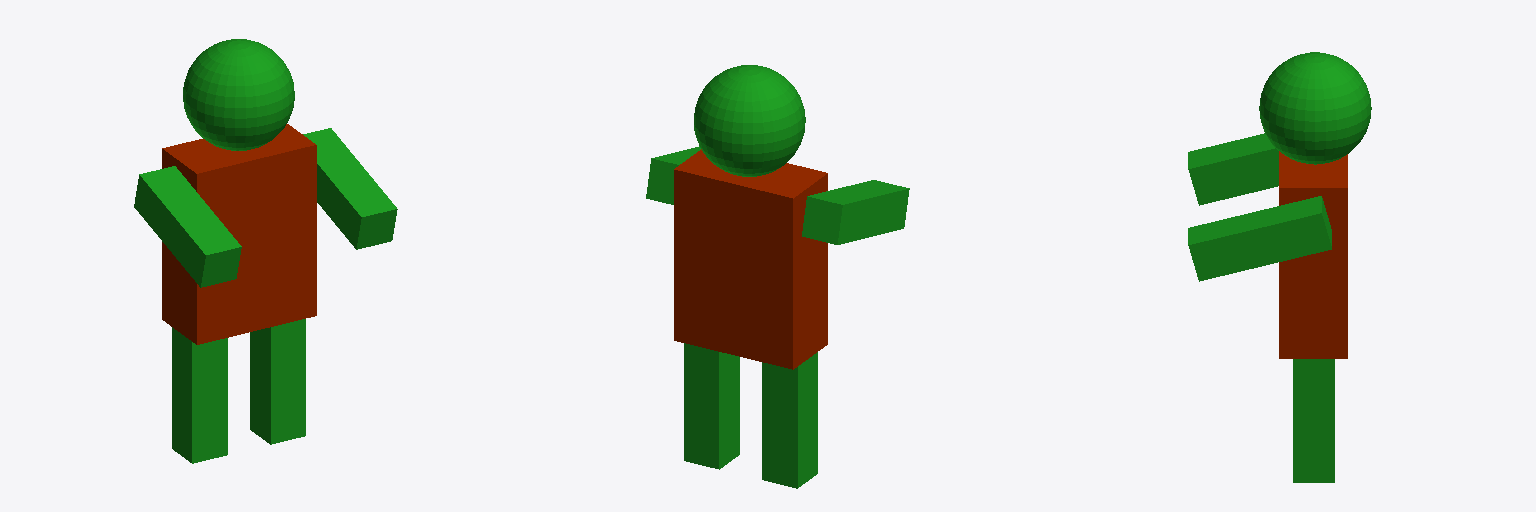
Rendered from enemigo2.obj.
The picture shows the model from 3 angles: view 1: azimuth 30°, elevation 25°; view 2: azimuth 150°, elevation 25°; view 3: azimuth 270°, elevation 25°; orthographic projection.
Parts seen in each view (by area): view 1: Cube_Cube.003, Sphere, Cube.003_Cube.006, Cube.001, Cube.000_Cube.002, Cube.002_Cube.005; view 2: Cube_Cube.003, Sphere, Cube.001, Cube.000_Cube.002, Cube.003_Cube.006, Cube.002_Cube.005; view 3: Cube_Cube.003, Sphere, Cube.002_Cube.005, Cube.000_Cube.002, Cube.003_Cube.006.
Boxes of the visible parts, x1,y1,x2,y2 form: Cube_Cube.003: [162, 124, 316, 344]; Sphere: [183, 39, 294, 150]; Cube.003_Cube.006: [134, 166, 241, 287]; Cube.001: [172, 327, 227, 463]; Cube.000_Cube.002: [250, 319, 305, 444]; Cube.002_Cube.005: [303, 128, 397, 249]; Cube_Cube.003: [674, 149, 827, 369]; Sphere: [694, 65, 805, 176]; Cube.001: [762, 352, 817, 488]; Cube.000_Cube.002: [684, 343, 739, 469]; Cube.003_Cube.006: [802, 180, 909, 244]; Cube.002_Cube.005: [646, 146, 700, 204]; Cube_Cube.003: [1279, 151, 1347, 358]; Sphere: [1259, 52, 1371, 164]; Cube.002_Cube.005: [1188, 196, 1331, 281]; Cube.000_Cube.002: [1293, 359, 1334, 482]; Cube.003_Cube.006: [1188, 133, 1278, 205].
Size of the model in its own units: 2.13 by 4.22 by 1.76.